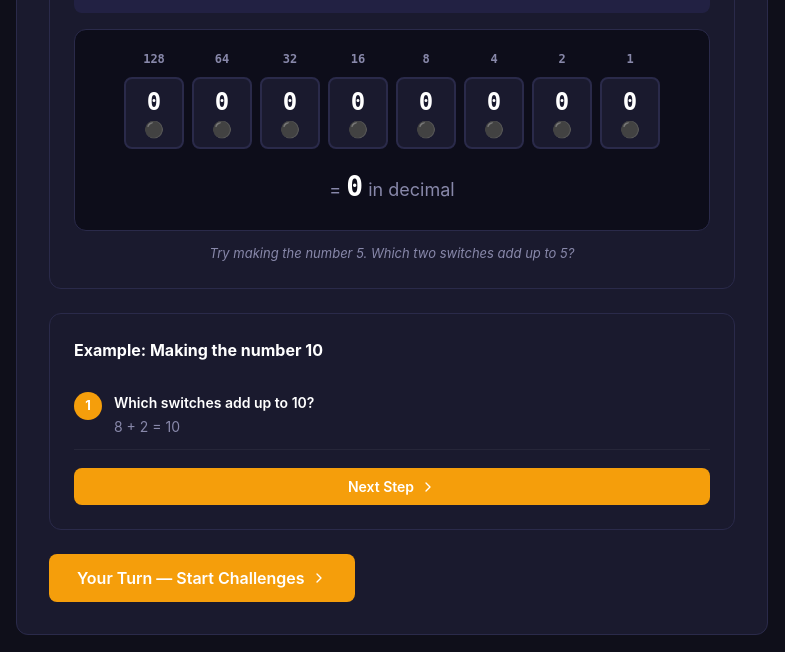
it: ModulePage challenge flow › advances to next lesson when clicking "Next Lesson"
(page scrolled)
Click the button with test id "start-challenges": coordinates (202, 578) [49,554,355,602]
(page scrolled)
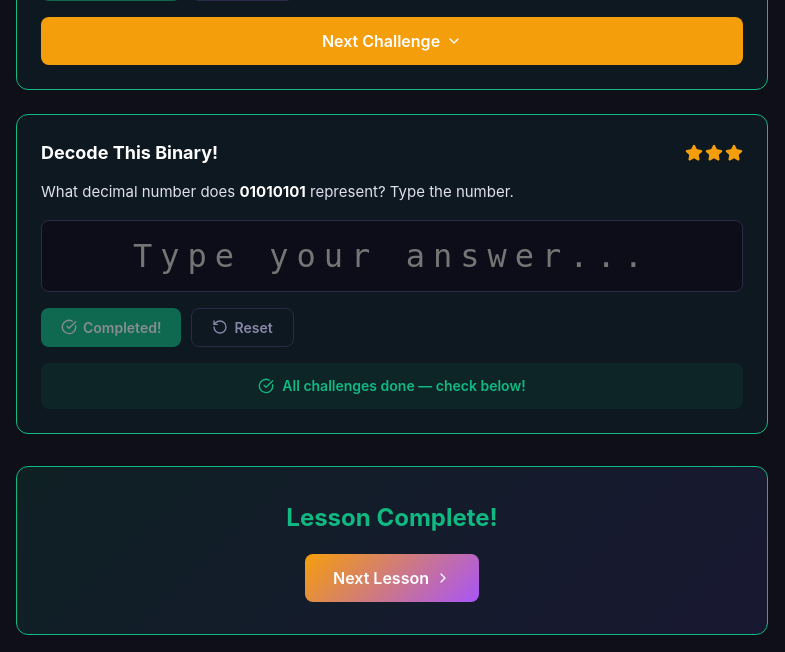
Click the button with test id "next-lesson": coordinates (392, 578) [305,554,479,602]
(page scrolled)
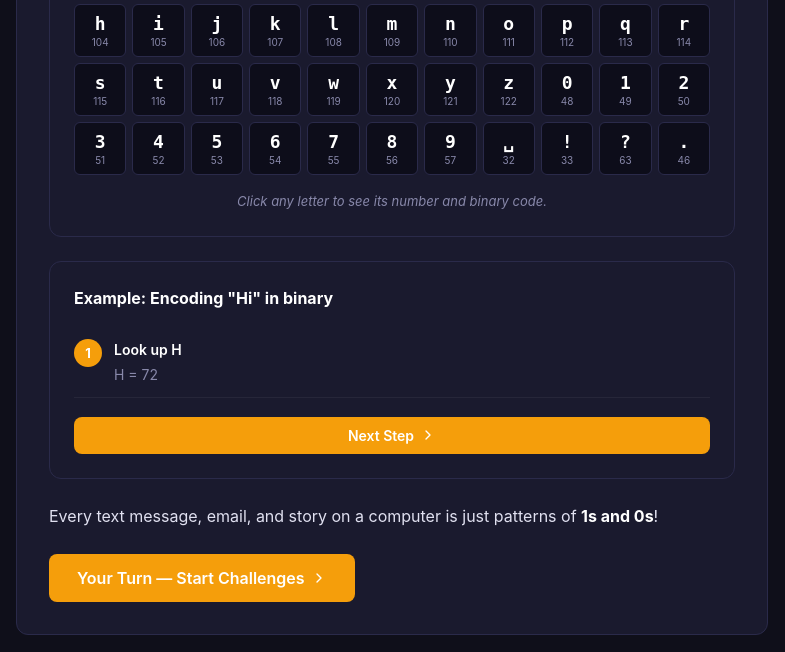
Now the button with test id "start-challenges" is shown, box [49,554,355,602]
